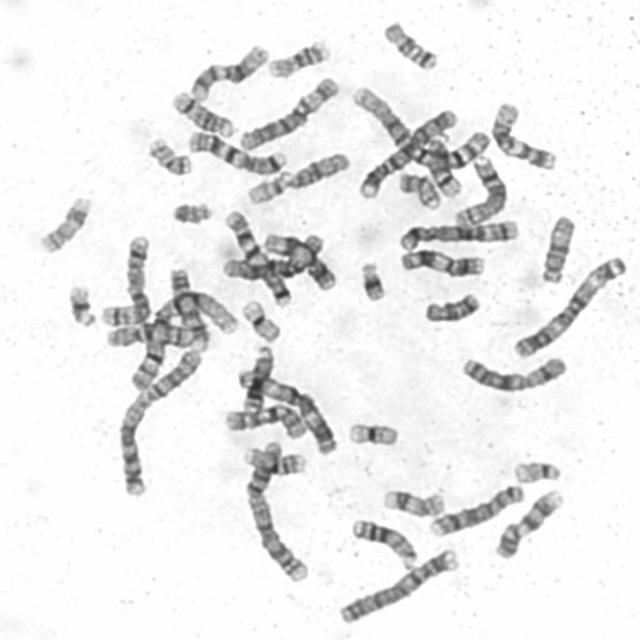A1: (346, 78, 494, 172), (124, 282, 243, 392)
A2: (112, 343, 204, 499), (239, 436, 312, 584)
A3: (508, 249, 630, 361), (233, 366, 339, 456)
B4: (333, 542, 461, 626), (352, 102, 458, 200)
B5: (96, 230, 153, 327), (393, 214, 521, 251)
C10: (218, 399, 310, 441), (100, 316, 200, 351)
C11: (257, 228, 339, 292), (393, 244, 488, 279)
C12: (484, 96, 558, 172), (184, 38, 271, 102)
C6: (233, 70, 342, 152), (216, 229, 325, 282)
C7: (218, 205, 294, 308), (181, 124, 289, 176)
C8: (423, 479, 527, 539), (448, 150, 510, 229)
C9: (489, 484, 566, 561), (163, 260, 209, 354)
D13: (346, 513, 420, 571), (237, 340, 275, 413)
D14: (166, 84, 236, 138), (422, 131, 464, 198)
D15: (534, 209, 578, 285), (282, 146, 351, 190)
E16: (263, 33, 331, 80), (237, 441, 307, 476)
E17: (33, 190, 93, 255), (377, 483, 447, 519)
E18: (377, 15, 440, 72), (418, 288, 482, 324)
F19: (236, 295, 283, 344), (342, 415, 401, 448)
F20: (142, 131, 194, 177), (392, 167, 442, 211)
G21: (61, 279, 98, 329), (354, 256, 388, 303)
G22: (242, 167, 292, 206), (508, 454, 563, 485)
X: (455, 349, 570, 394)
Y: (166, 195, 214, 226)
